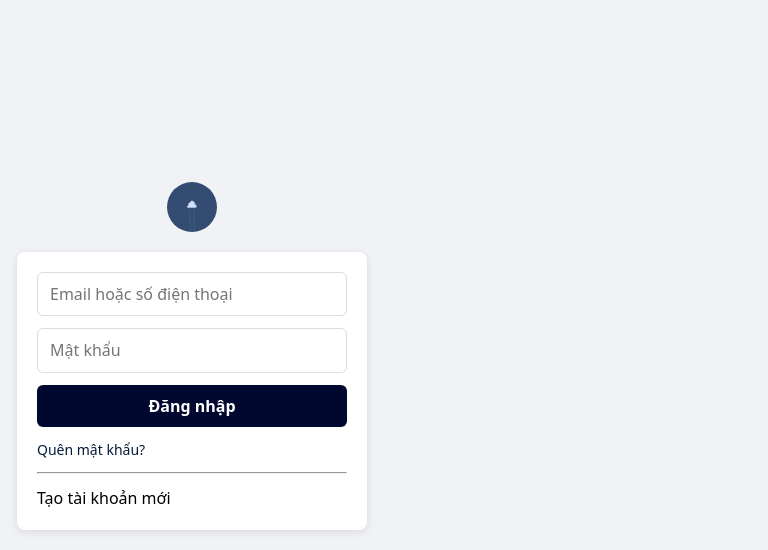
Test: 6.1.2 E2E Test Scenarios cho Login › Error Flow: Should show notification when login fails
Type "wronguser" into the field with placeholder "Email hoặc số điện thoại" at [192, 294], box [37,272,347,316]
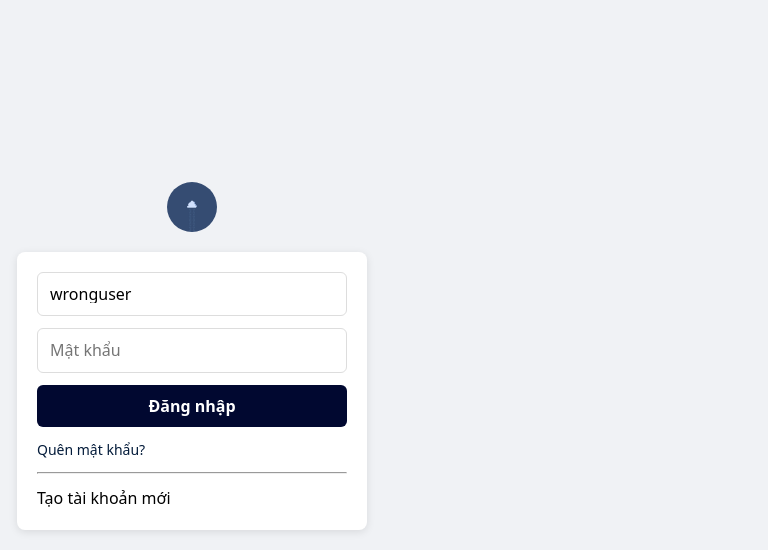
Type "wrongpass" into the password field with placeholder "Mật khẩu" at [192, 350], box [37,328,347,372]
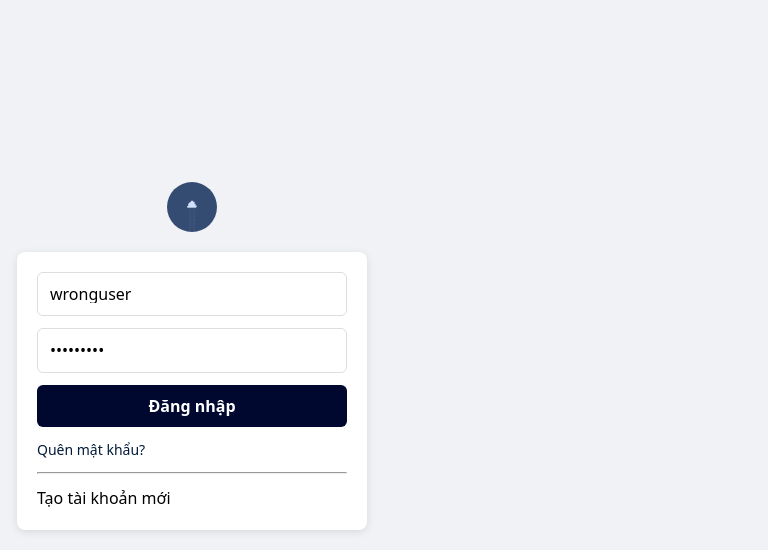
Click the button with test id "login-btn" at [192, 406], box [37,385,347,427]
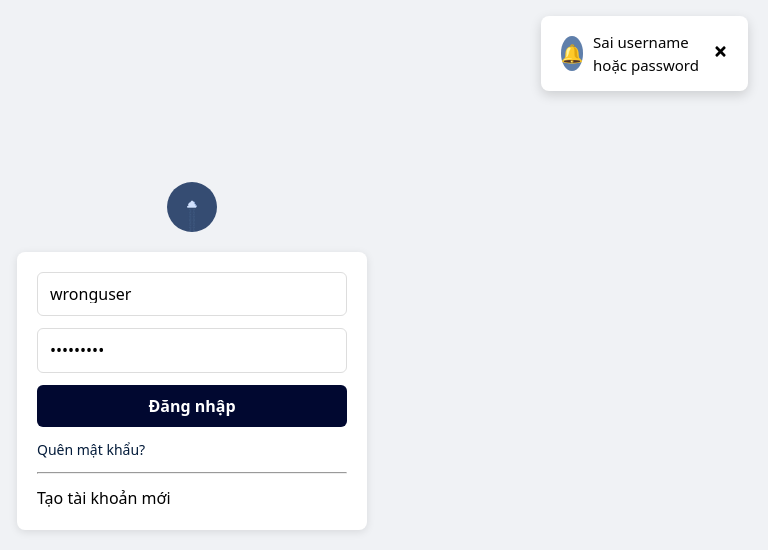
Expected: the text "Sai username hoặc password" is shown, [593,31,703,76]
